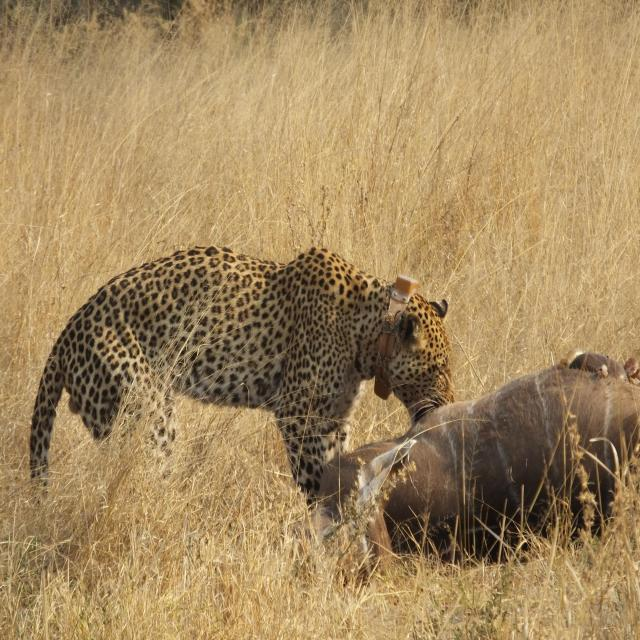Leopard: (43, 268, 488, 543)
